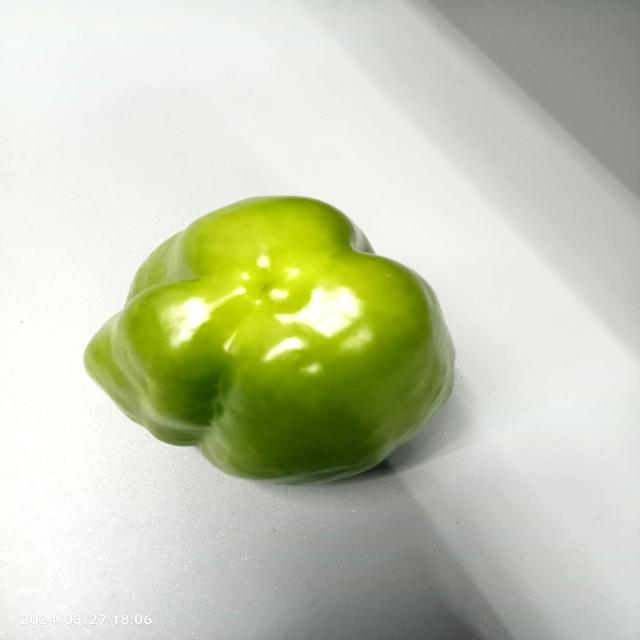bell pepper: (76, 182, 471, 503)
